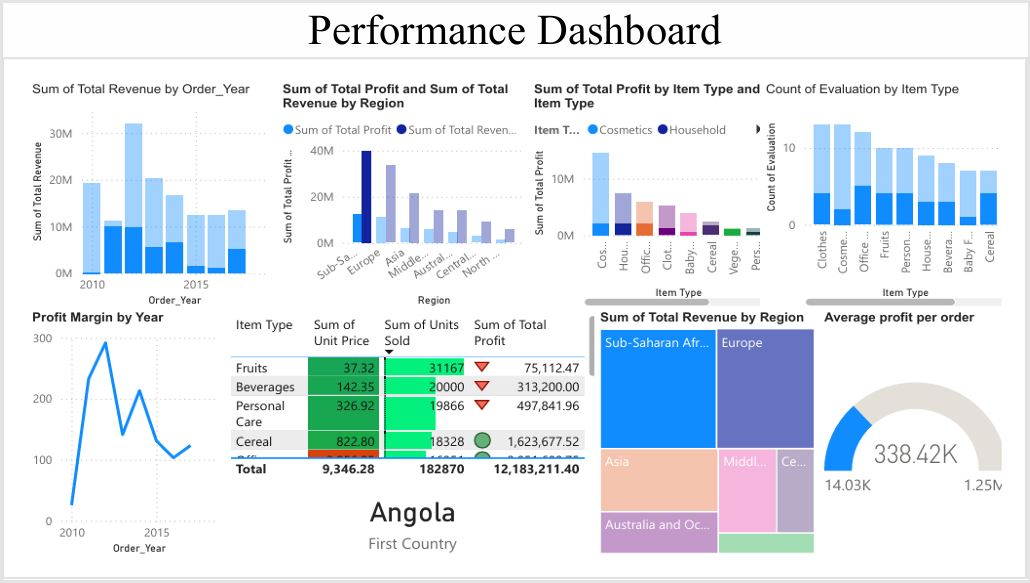

The page's visual inventory and layout, read from the dashboard file:
{"tool":"powerbi","page":{"name":"Page 1","canvas":[1000,500],"ordinal":0},"visuals":[{"type":"clusteredColumnChart","fields":{"Category":["Combined.Order_Day","Combined.Order_Quarter","Combined.Order_Month","Combined.Order_Year"],"Y":["Sum(Combined.Total Revenue)"]},"box":[0,0,254,240],"z":0},{"type":"clusteredColumnChart","fields":{"Category":["Combined.Region"],"Y":["Sum(Combined.Total Profit)","Sum(Combined.Total Revenue)"]},"box":[254,0,256,240],"z":1000},{"type":"columnChart","fields":{"Category":["Combined.Item Type"],"Y":["Sum(Combined.Total Profit)"],"Series":["Combined.Item Type"]},"box":[510,0,253,240],"z":2000},{"type":"columnChart","fields":{"Category":["Combined.Item Type"],"Y":["CountNonNull(Combined.Evaluation)"]},"box":[746,0,254,240],"z":3000},{"type":"lineChart","title":"Profit Margin by Year","fields":{"Category":["Combined.Order_Year"],"Y":["Sum(Combined.Profit_Margin)"]},"box":[0,240,201,260],"z":4000},{"type":"tableEx","fields":{"Values":["Combined.Item Type","Sum(Combined.Unit Price)","Sum(Combined.Units Sold)","Sum(Combined.Total Profit)"]},"box":[201,250,383,193],"z":5000},{"type":"treemap","fields":{"Values":["Sum(Combined.Total Revenue)"],"Group":["Combined.Region"]},"box":[577,240,228,260],"z":6000},{"type":"gauge","title":"Average profit per order","fields":{"Y":["Avg(Combined.Total Profit)"],"MinValue":["Min(Combined.Total Profit)"],"MaxValue":["Max(Combined.Total Profit)1"]},"box":[805,240,195,260],"z":7000},{"type":"card","fields":{"Values":["Min(Combined.Country)"]},"box":[194,433,383,67],"z":8000}]}

Visuals, with their boxes on the page's 1000x500 design canvas (x1, y1, x2, y2). These are canvas units, not pixel positions in the 1030x583 screenshot, which may show the page scaled, cropped or inside an application window:
clusteredColumnChart - Combined.Order_Day x Combined.Order_Quarter: l=0, t=0, r=254, b=240
clusteredColumnChart - Combined.Region x Sum(Combined.Total Profit): l=254, t=0, r=510, b=240
columnChart - Combined.Item Type x Sum(Combined.Total Profit): l=510, t=0, r=763, b=240
columnChart - Combined.Item Type x CountNonNull(Combined.Evaluation): l=746, t=0, r=1000, b=240
"Profit Margin by Year" lineChart: l=0, t=240, r=201, b=500
tableEx - Combined.Item Type x Sum(Combined.Unit Price): l=201, t=250, r=584, b=443
treemap - Sum(Combined.Total Revenue) x Combined.Region: l=577, t=240, r=805, b=500
"Average profit per order" gauge: l=805, t=240, r=1000, b=500
card - Min(Combined.Country): l=194, t=433, r=577, b=500
